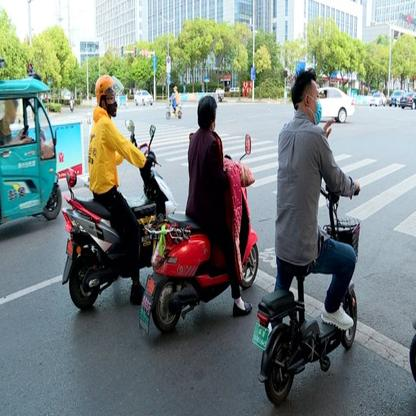target: (253, 67, 363, 405), (139, 95, 260, 339), (60, 71, 171, 310)
